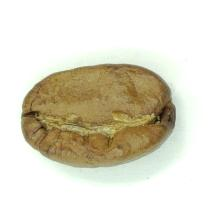NG: (32, 79, 165, 150)
